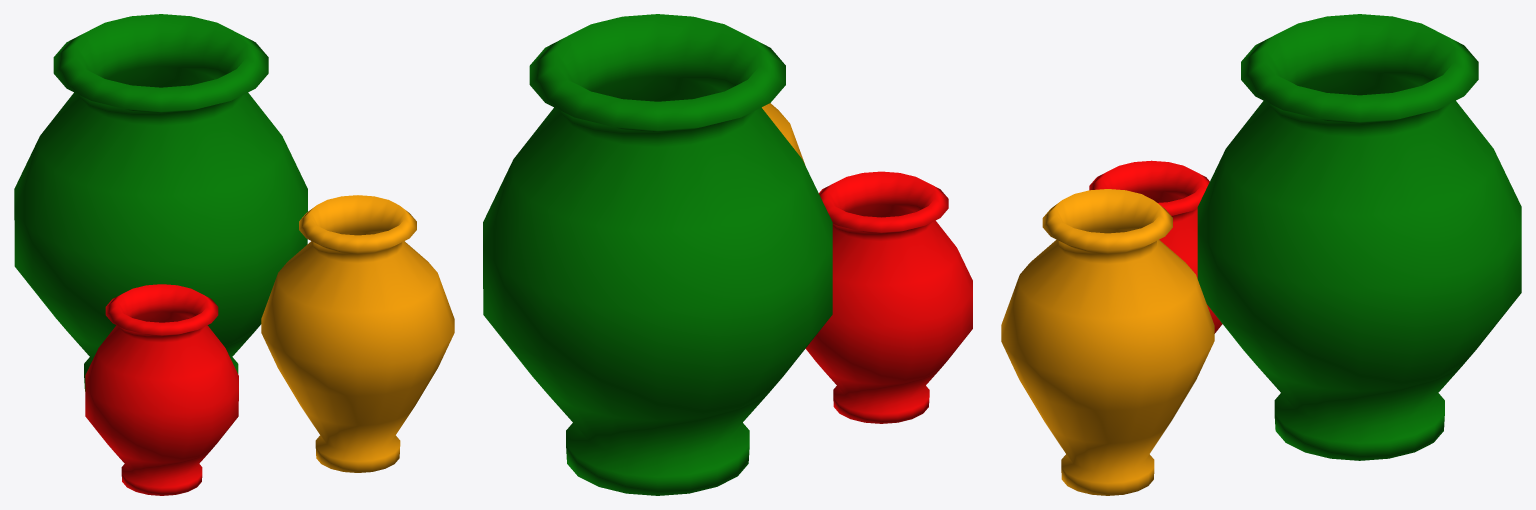
The model's file is 3D_ENV_VASES.FBX.
3 renders of one model, left to right at view 1: azimuth 30°, elevation 25°; view 2: azimuth 150°, elevation 25°; view 3: azimuth 270°, elevation 25°, orthographic. The views are drawn at different scales.
Parts seen in each view (by area): view 1: Vase1, Vase003, Vase2; view 2: Vase1, Vase2, Vase003; view 3: Vase1, Vase003, Vase2.
Part boxes in pixels (x1,y1,x2,y2): Vase1: [14, 14, 307, 391]; Vase003: [261, 195, 454, 472]; Vase2: [85, 284, 238, 495]; Vase1: [483, 14, 832, 495]; Vase2: [805, 171, 972, 423]; Vase003: [762, 103, 805, 165]; Vase1: [1197, 14, 1521, 460]; Vase003: [1001, 189, 1214, 495]; Vase2: [1089, 160, 1222, 333].
Bounding box in the file's own units: 68.06 × 67.51 × 84.52.
